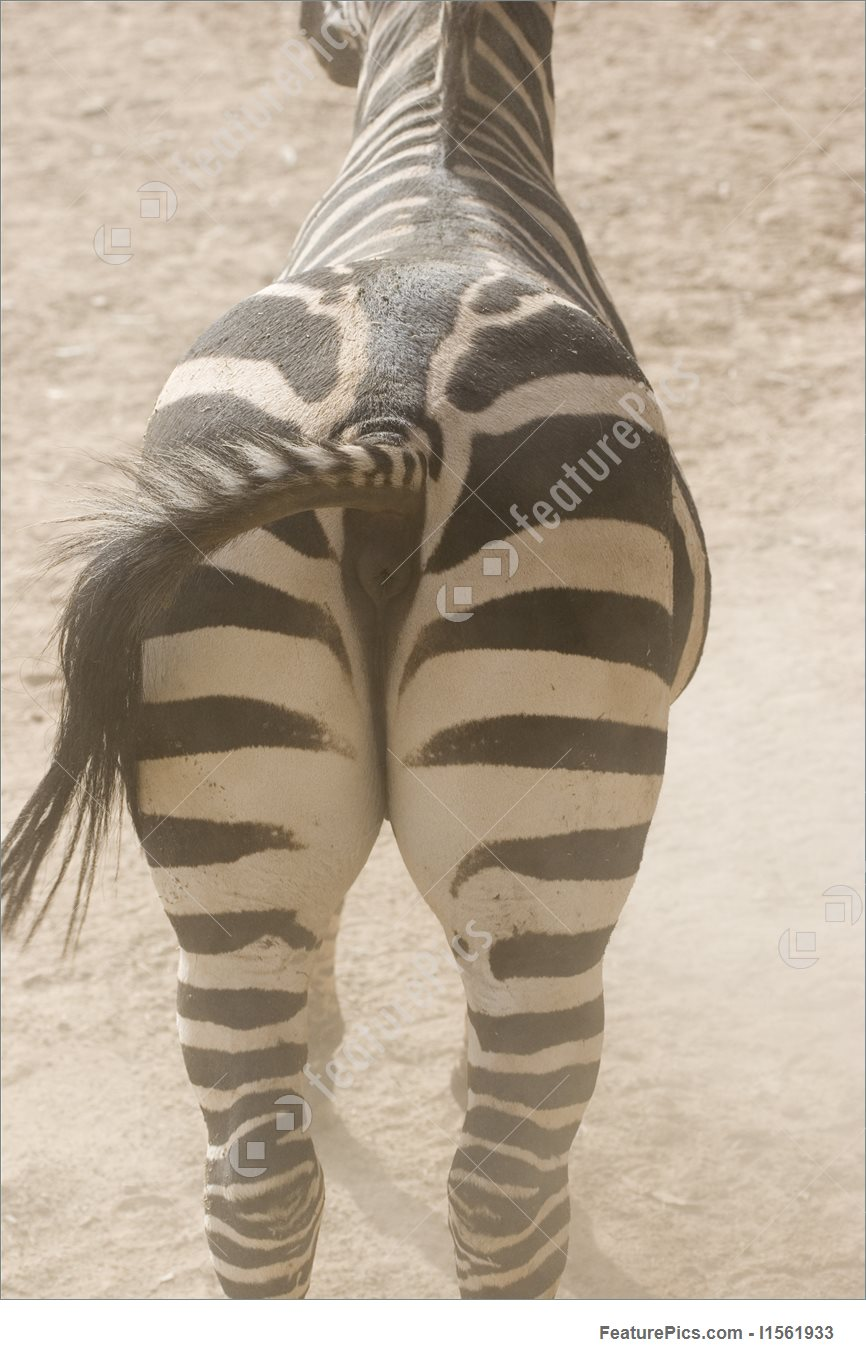zebra: (73, 1, 719, 1303)
